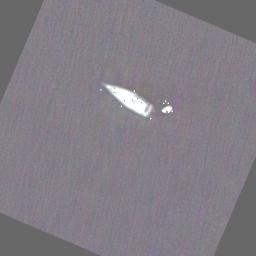boat: (94, 75, 159, 121), (159, 100, 175, 116)
